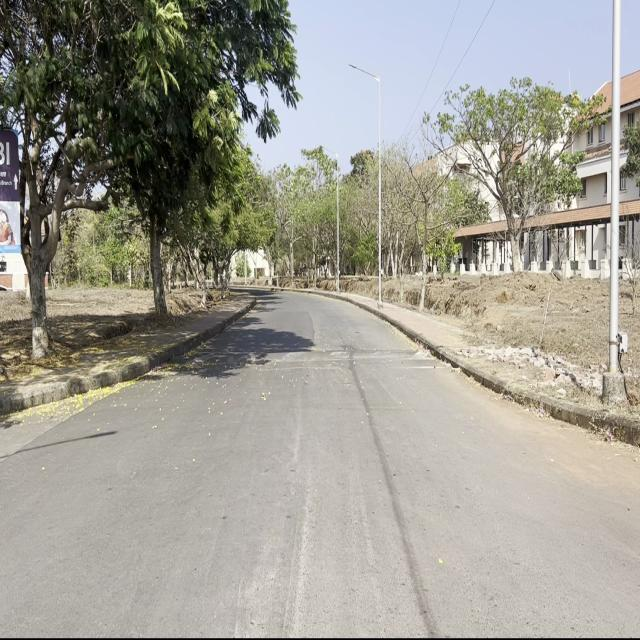Road: (2, 289, 637, 634)
